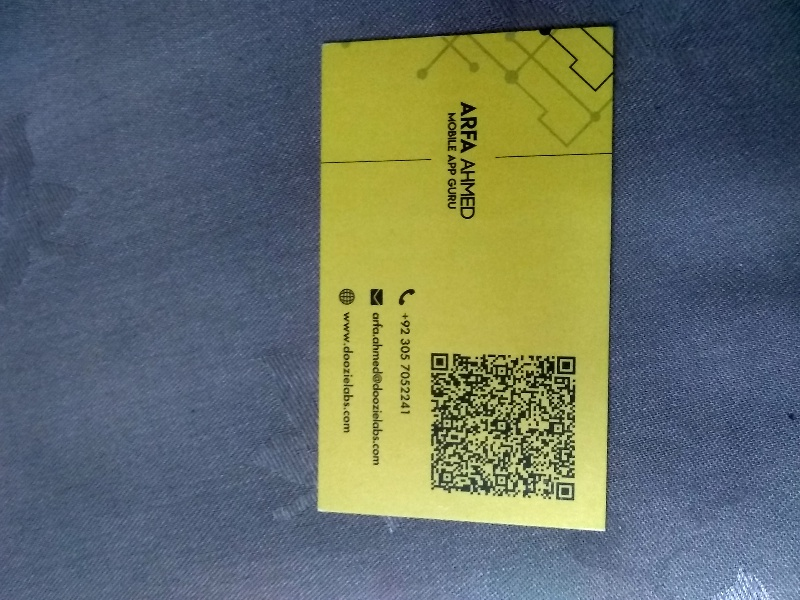front: (312, 30, 616, 533)
